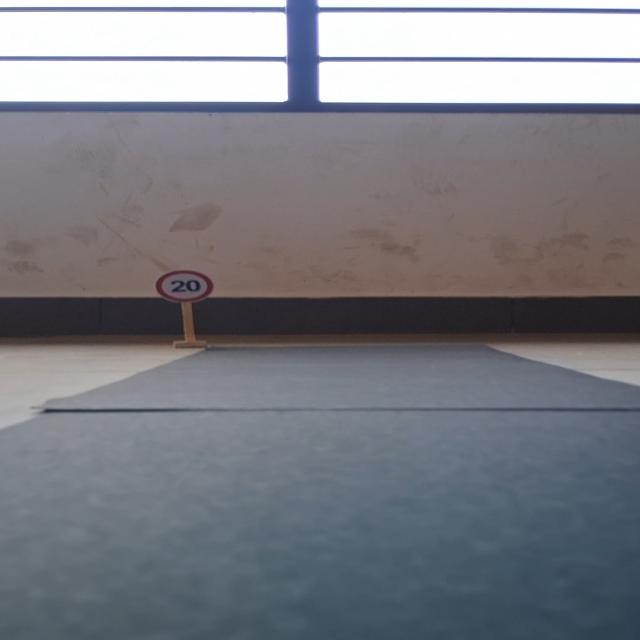Speed20: (147, 268, 218, 304)
